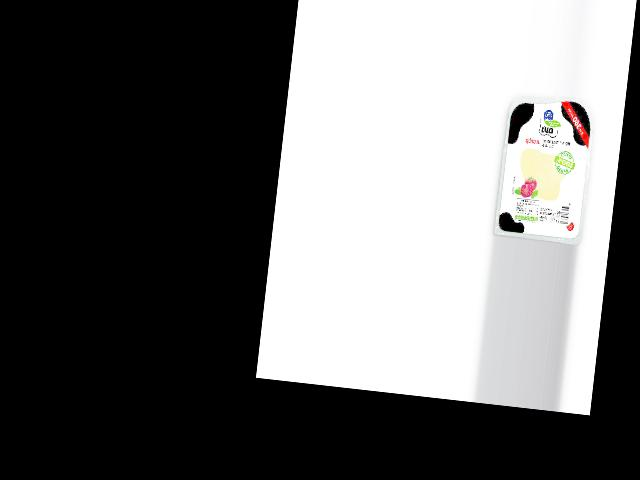cheese: (493, 89, 597, 245)
